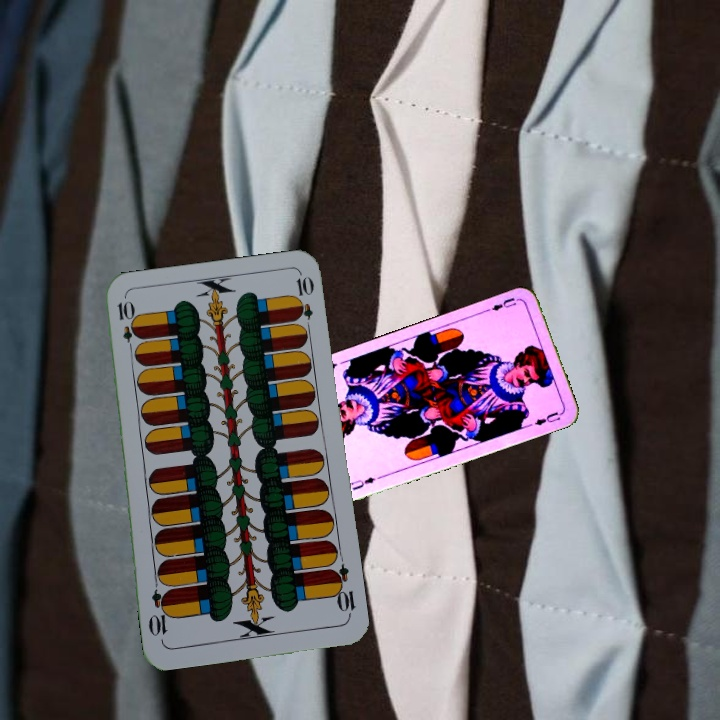E10: (326, 561, 358, 620), (113, 297, 138, 356)
EU: (483, 293, 519, 314), (346, 473, 378, 493)
